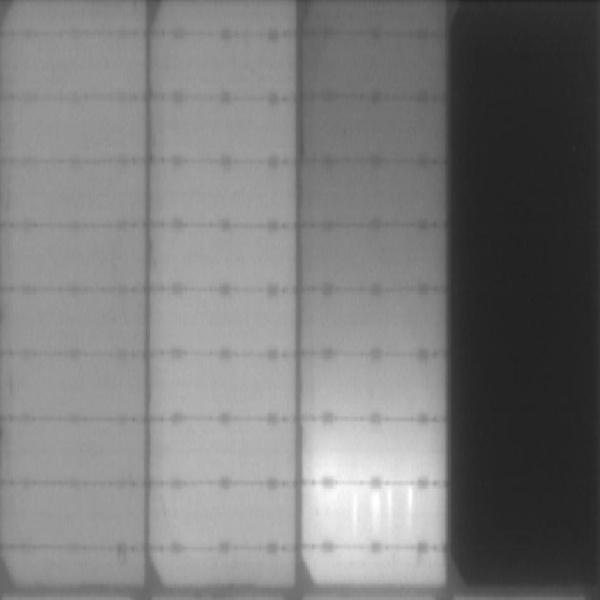hot_spot: (365, 487, 385, 534), (346, 491, 361, 538), (388, 489, 397, 524), (408, 488, 416, 522)
no_electricity: (446, 3, 598, 594)
